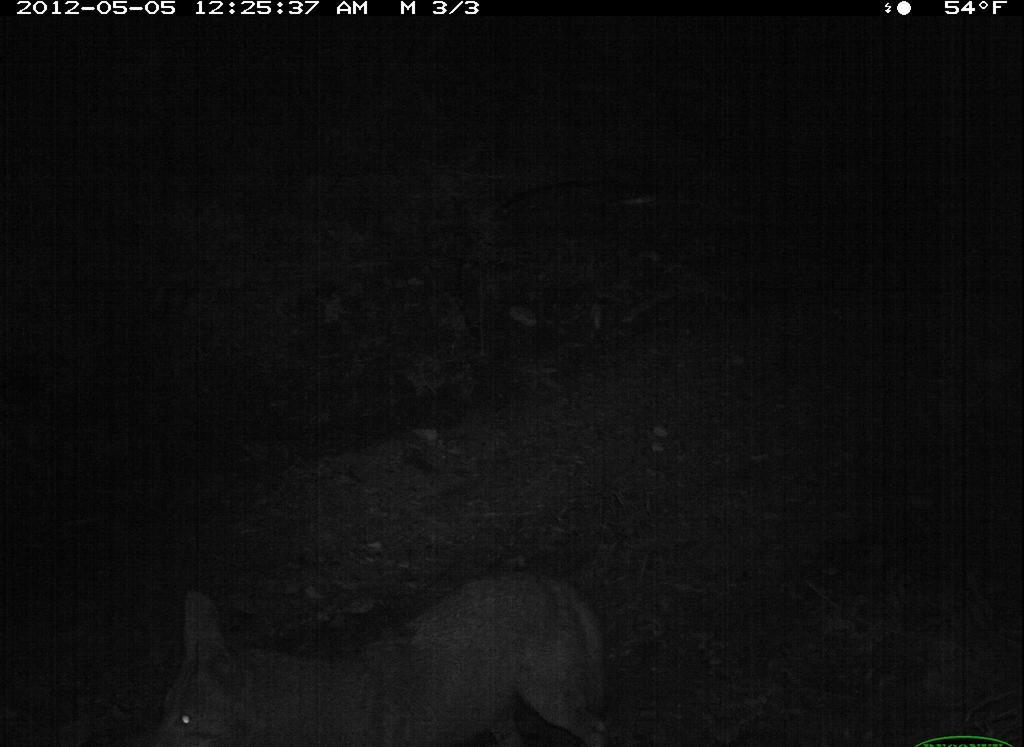coyote: (141, 547, 620, 747)
